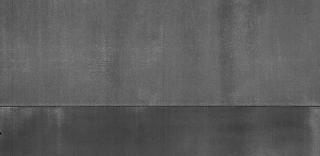punching hole: (0, 129, 8, 139)
welding line: (1, 102, 319, 112)
